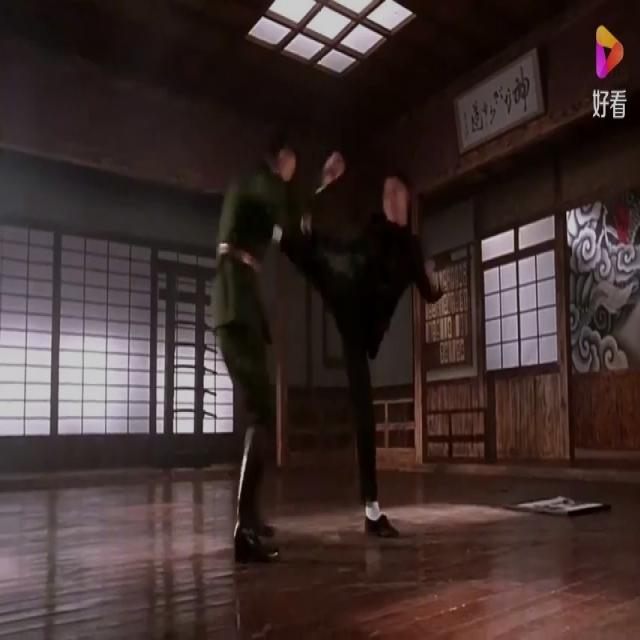fight: (194, 133, 450, 570)
